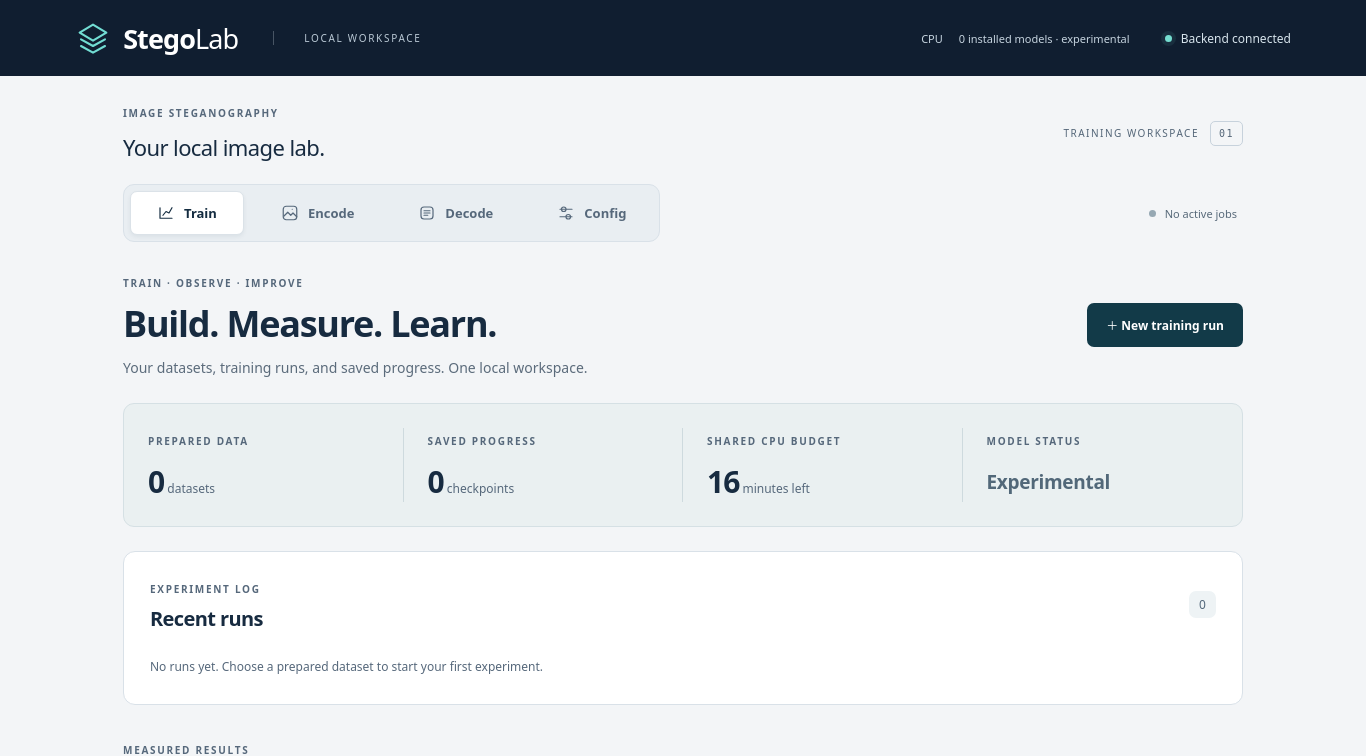
workspace › confirms only successful saves and keeps edits when switching tabs
The width and height of the screenshot is (1366, 756).
Click the tab "Config" at (592, 213), box [530,191,653,235]
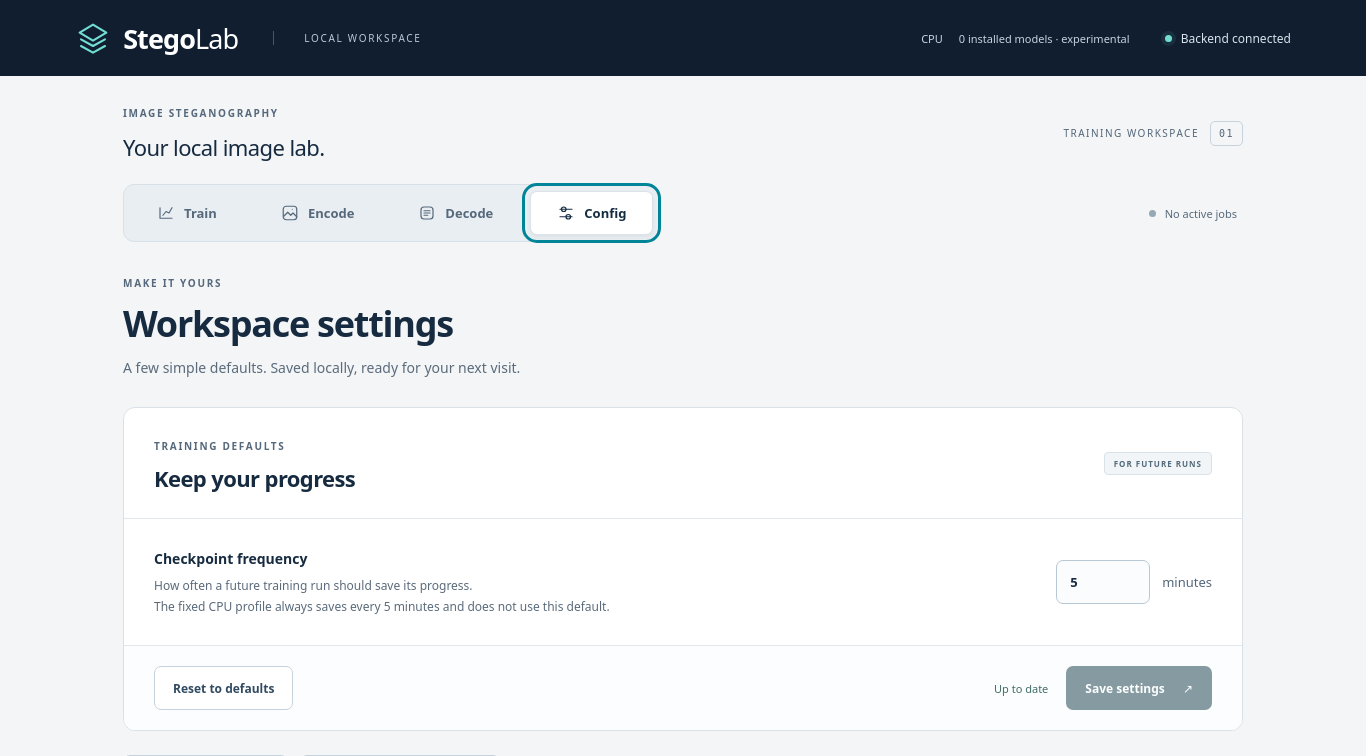
Replace the text in the number field labelled "Checkpoint frequency" with "7" at (1103, 582), box [1056,560,1150,604]
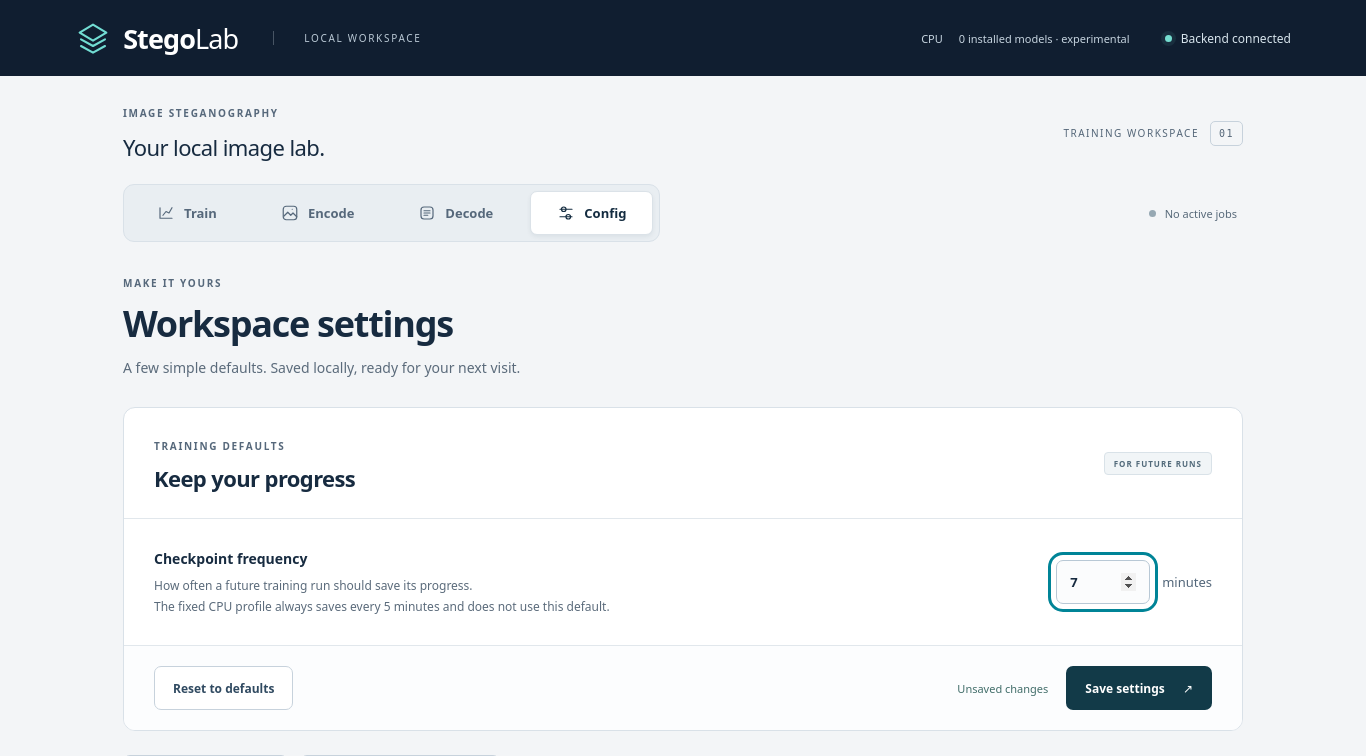
Click the tab "Train" at (187, 213), box [130,191,244,235]
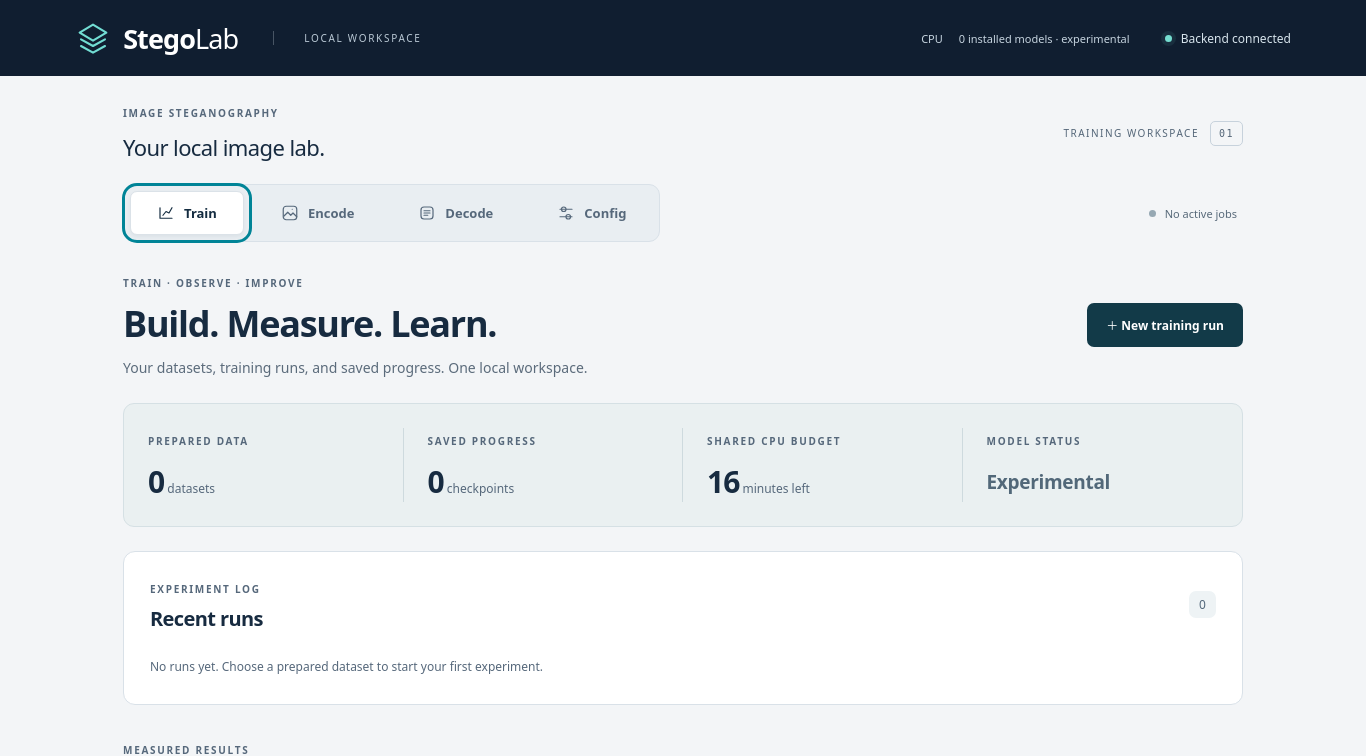
Click the tab "Config" at (592, 213), box [530,191,653,235]
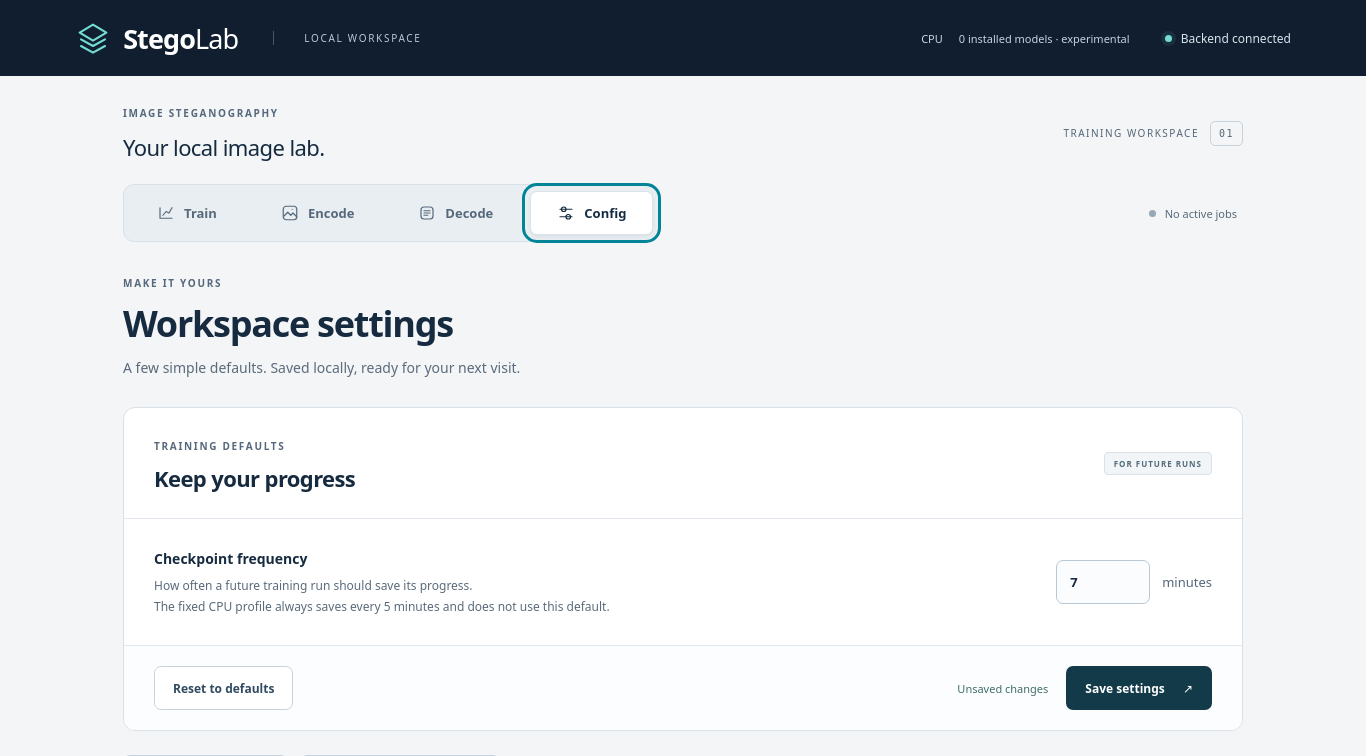
Click the button "Save settings ↗" at (1139, 688), box [1066,666,1212,710]
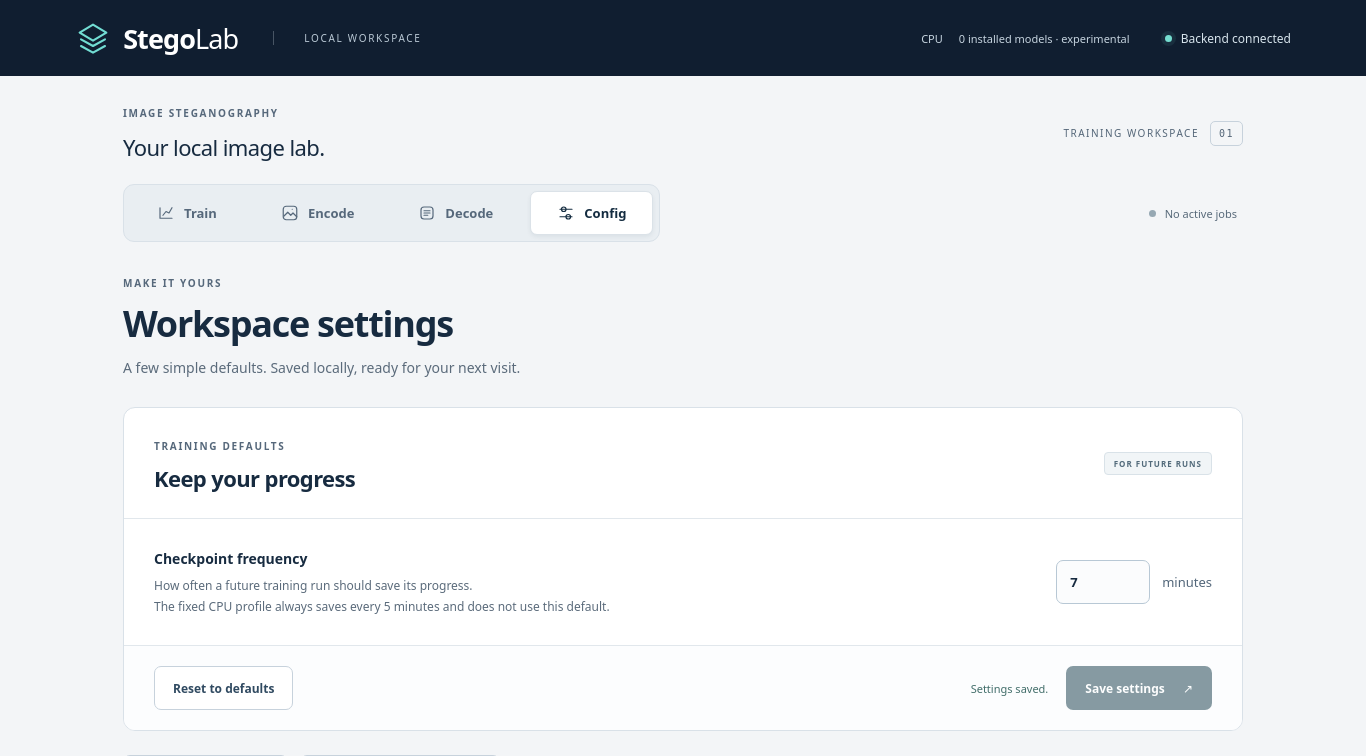
Now the text "Settings saved." is shown, box [971,681,1048,696]
